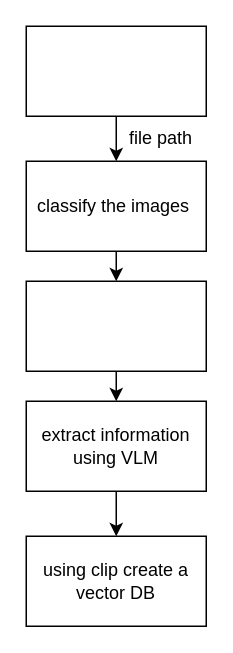
Some shapes in this 233 by 653 pixel diagram are drawn without their labels. Here are the shapes that lost their labels. From the top down, the box of each, then its label:
(25, 25, 206, 116): user
(25, 280, 206, 371): create different prompt for different images
